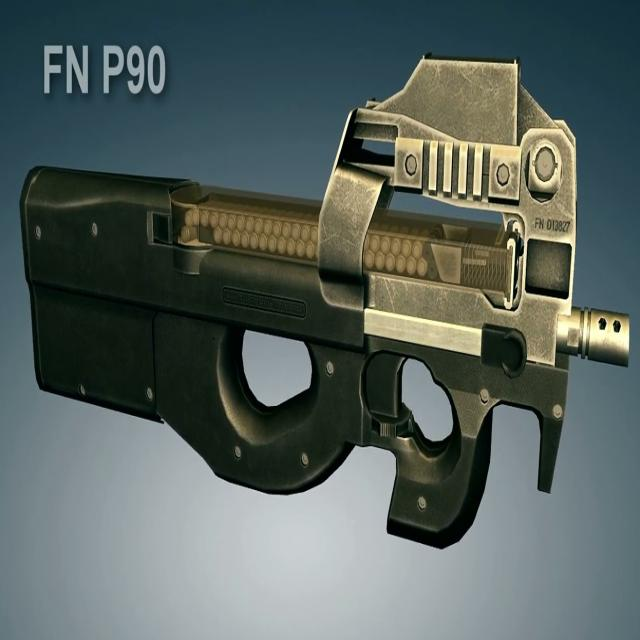Gun: (9, 48, 640, 582)
